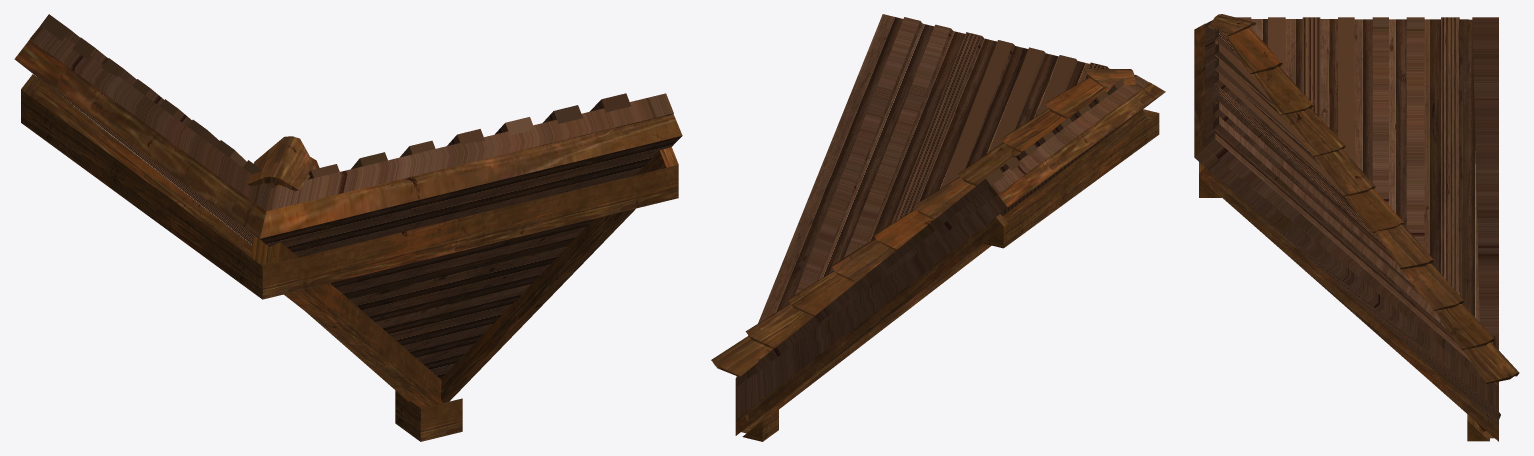
3 views of the same model, side by side, from view 1: azimuth 30°, elevation 25°; view 2: azimuth 150°, elevation 25°; view 3: azimuth 270°, elevation 25° (orthographic). The views are drawn at different scales.
Parts seen in each view (by area): view 1: SM_BB_T2_Roof_Large_Valley_LOD0; view 2: SM_BB_T2_Roof_Large_Valley_LOD0; view 3: SM_BB_T2_Roof_Large_Valley_LOD0.
Boxes of the visible parts, x1,y1,x2,y2 form: SM_BB_T2_Roof_Large_Valley_LOD0: (14,14,682,441); SM_BB_T2_Roof_Large_Valley_LOD0: (711,14,1165,441); SM_BB_T2_Roof_Large_Valley_LOD0: (1194,14,1519,441).
Bounding box in the file's own units: 3.53 × 3.8 × 3.56.
Materials: 2 (2 with a texture image).
